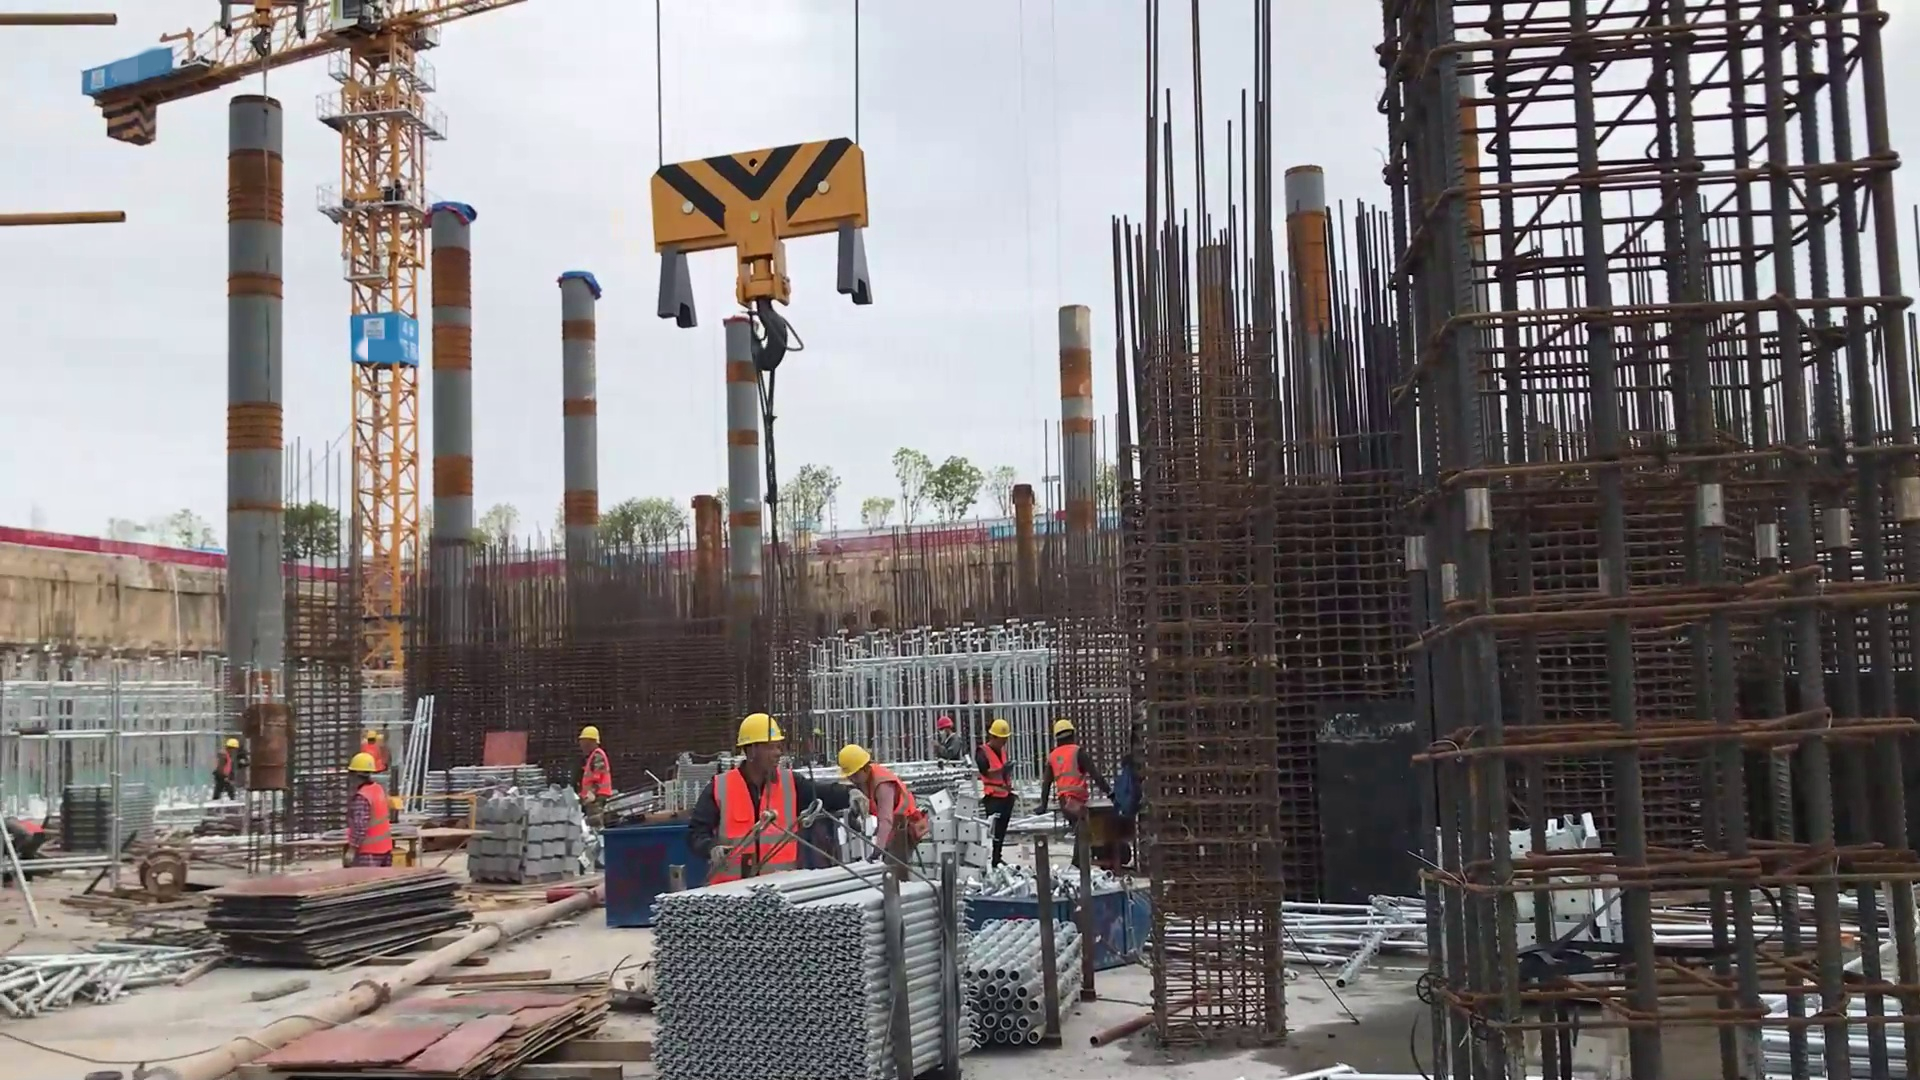helmet: (720, 700, 796, 751), (336, 743, 388, 779), (832, 738, 871, 773), (1040, 708, 1081, 741), (997, 712, 1036, 741), (574, 714, 606, 747)
person: (686, 708, 812, 877), (831, 741, 939, 885), (1042, 714, 1123, 866), (331, 747, 406, 874), (969, 711, 1020, 868), (570, 716, 616, 810)
vest: (704, 757, 797, 880), (343, 777, 394, 854), (1046, 737, 1090, 801), (979, 737, 1017, 797), (577, 751, 611, 799)
